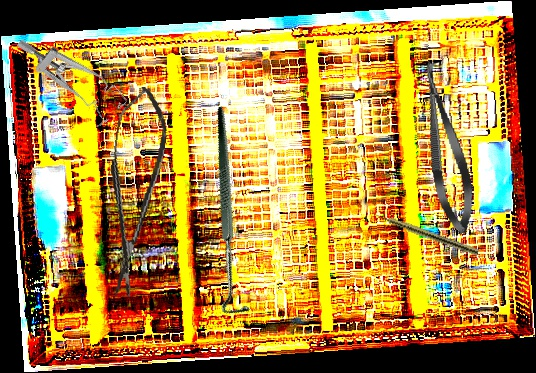Handpiece: (367, 208, 481, 257)
Hook Surgical: (140, 104, 324, 323)
Micro Scissor: (91, 83, 174, 301), (411, 57, 481, 237)
Speculum: (14, 12, 131, 136)
